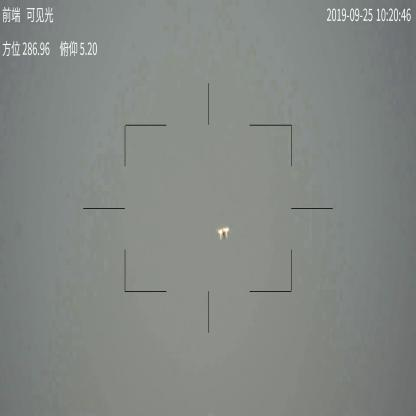uav: (216, 223, 231, 240)
